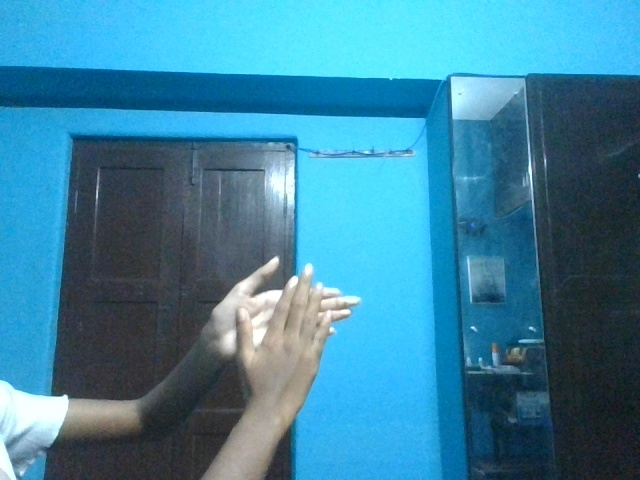H: (196, 257, 361, 410)
